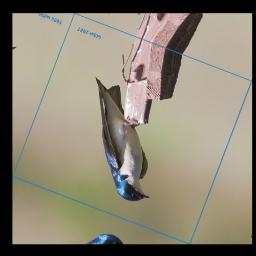Swallow: (57, 74, 184, 208)
